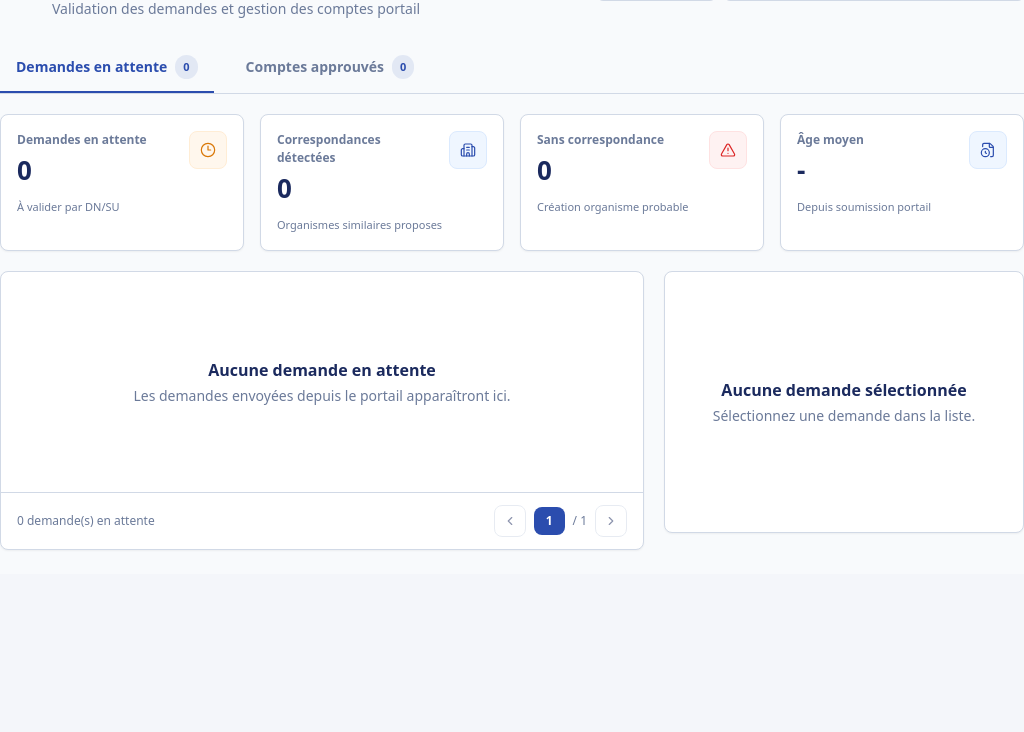
Test: <AccountRequestsPage> approved account edit › 409 keeps the form, the typed email and shows the API message
Click the button "Comptes approuvés 0". click: (330,68)
box: [230,43,430,93]
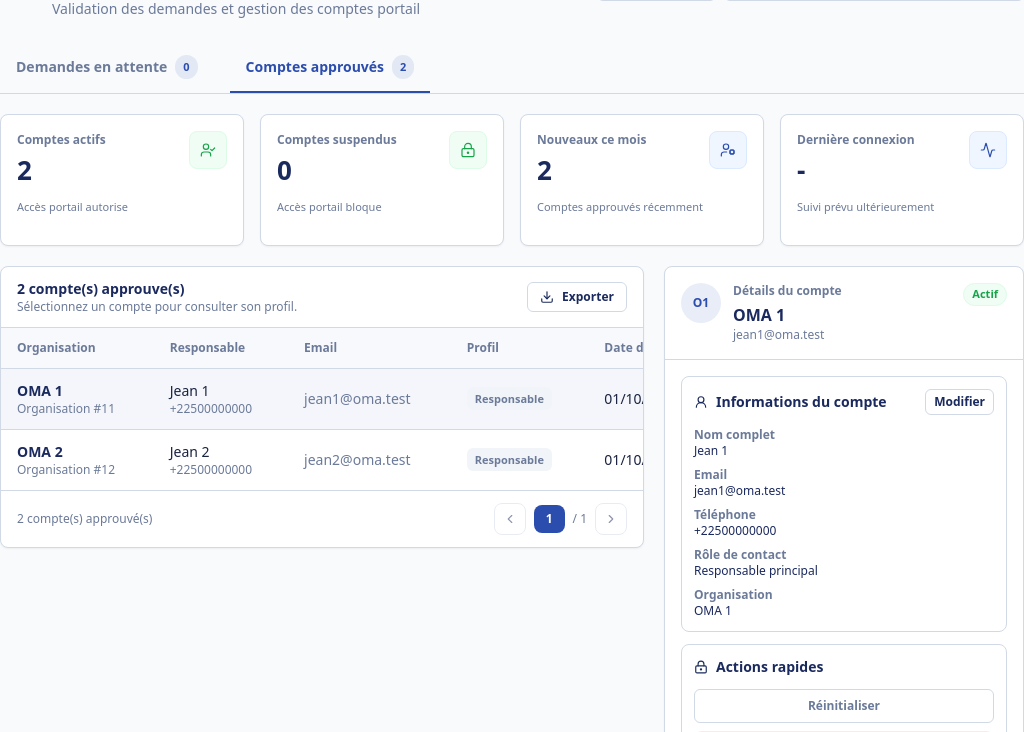
Click the button "Modifier". click: (960,402)
box: [925,389,994,415]
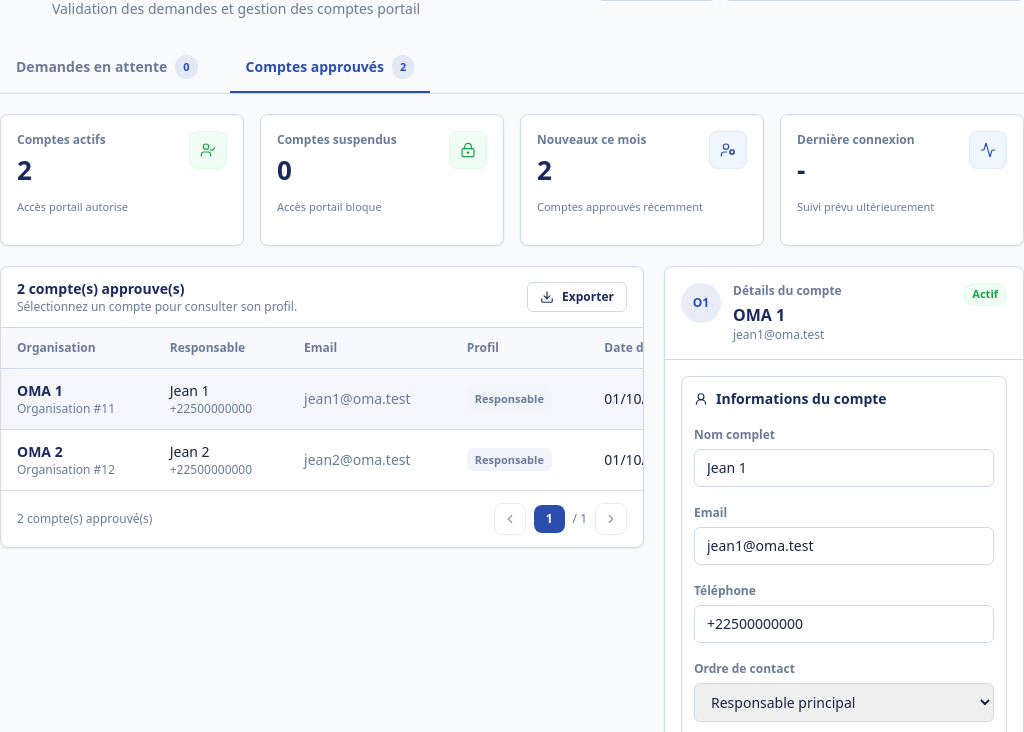
Replace the text in the field labelled "Email" with "pris@oma.test". click: (844,546)
box: [694,527,994,565]
(page scrolled)
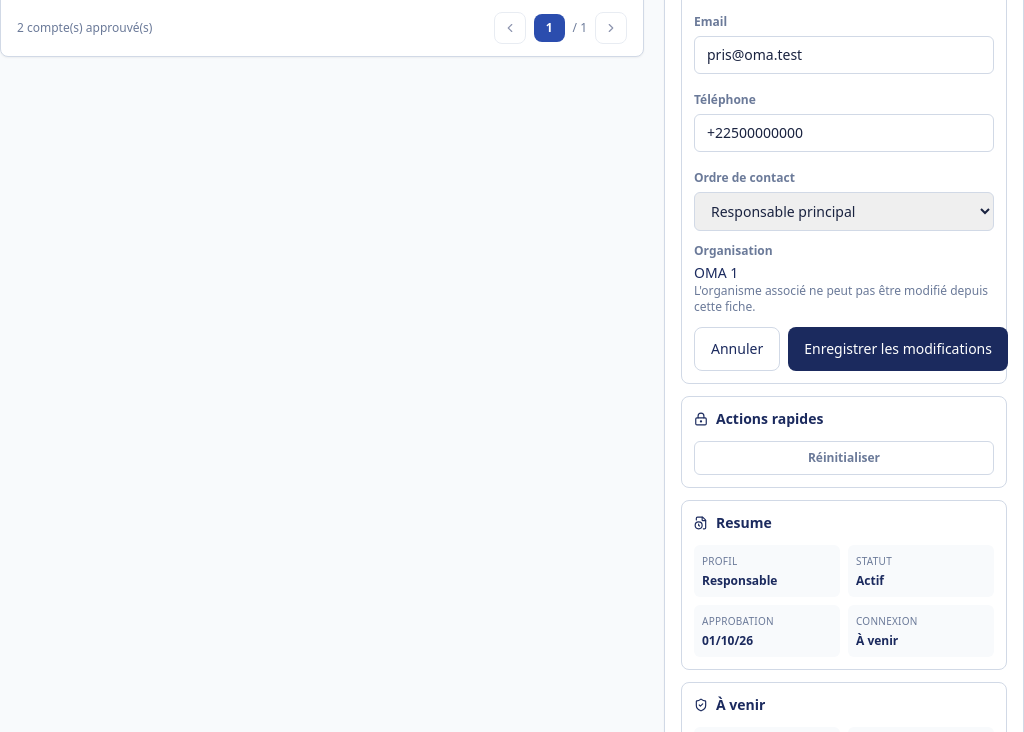
Click the button "Enregistrer les modifications". click: (898,349)
box: [788,327,1008,371]
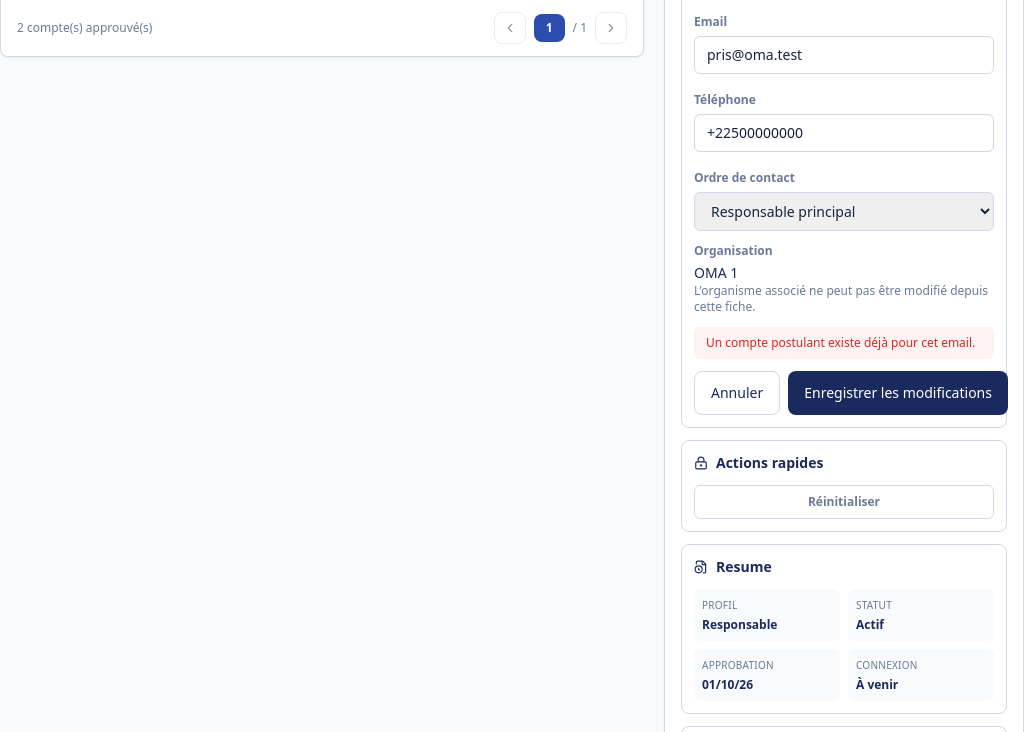
Expected: the button "Enregistrer les modifications" is enabled, [788,371,1008,415]
Expected: the button "Annuler" is enabled, [694,371,780,415]
Expected: the message reads "Un compte postulant existe déjà pour cet email.", [706,334,975,351]
